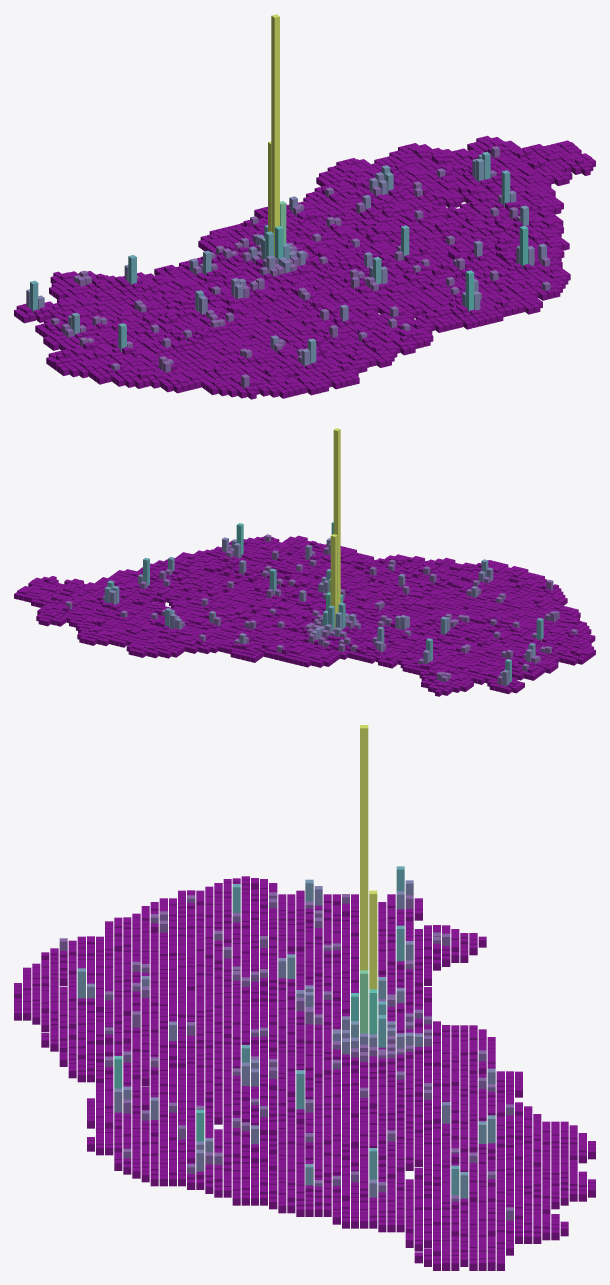
Rendered from pubs.gltf.
3 renders of one model, top to bottom at view 1: azimuth 30°, elevation 25°; view 2: azimuth 150°, elevation 25°; view 3: azimuth 270°, elevation 25°, orthographic. The views are drawn at different scales.
Visible parts, largest first — view 1: Object, Object.001, Object.002, Object.009, Object.004, Object.003, Object.005; view 2: Object, Object.001, Object.002, Object.009, Object.004, Object.003; view 3: Object, Object.001, Object.002, Object.009, Object.004, Object.003, Object.005.
Boxes of the visible parts, bbox=[...] form: Object: bbox=[14, 135, 595, 399]; Object.001: bbox=[51, 146, 550, 389]; Object.002: bbox=[26, 158, 546, 367]; Object.009: bbox=[268, 14, 279, 256]; Object.004: bbox=[30, 151, 510, 351]; Object.003: bbox=[71, 154, 528, 364]; Object.005: bbox=[275, 226, 528, 311]; Object: bbox=[14, 535, 595, 696]; Object.001: bbox=[65, 534, 577, 685]; Object.002: bbox=[109, 537, 532, 686]; Object.009: bbox=[330, 428, 340, 627]; Object.004: bbox=[107, 557, 543, 683]; Object.003: bbox=[104, 557, 535, 656]; Object: bbox=[14, 876, 595, 1270]; Object.001: bbox=[59, 892, 513, 1220]; Object.002: bbox=[87, 880, 495, 1197]; Object.009: bbox=[360, 725, 377, 989]; Object.004: bbox=[232, 866, 459, 1195]; Object.003: bbox=[77, 879, 495, 1198]; Object.005: bbox=[114, 993, 358, 1141].
Size of the model in its own units: 10.09 by 4 by 6.45.
